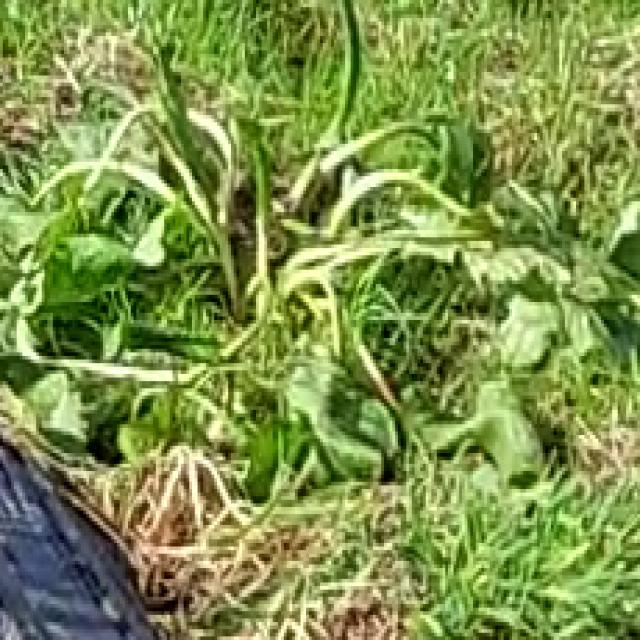organic waste: (0, 15, 632, 532)
